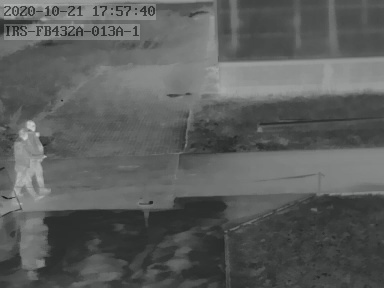person: (10, 129, 38, 201), (23, 118, 48, 194)
